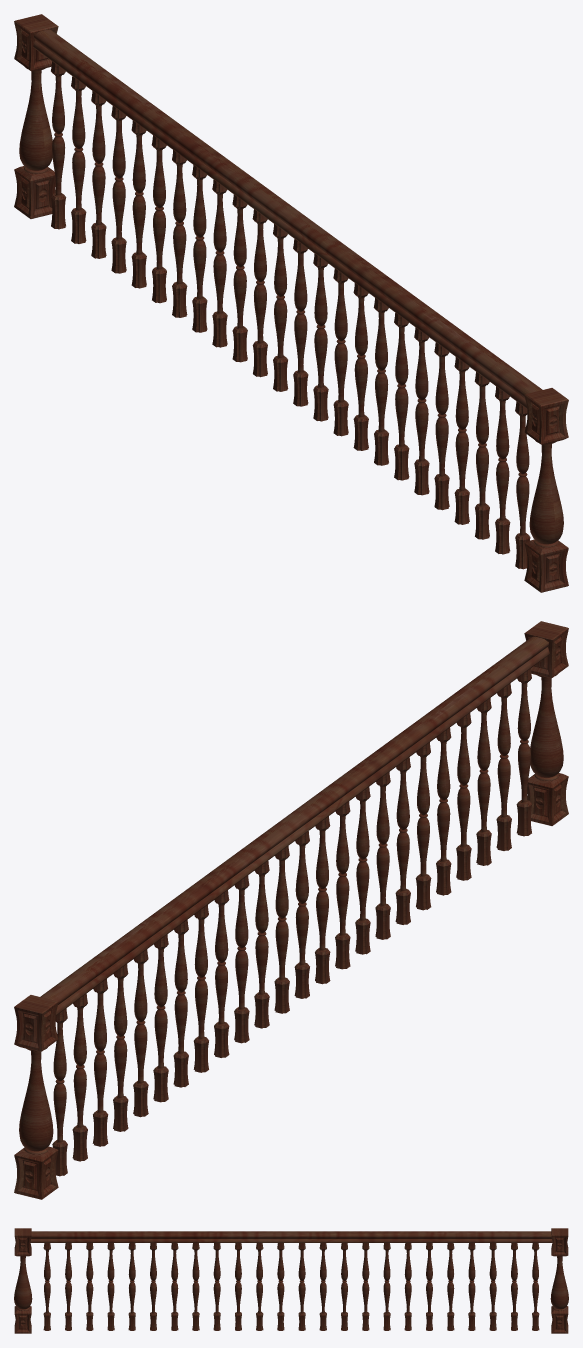
The model's file is DTYDFittings.fbx_RailingLong.fbx.
The picture shows the model from 3 angles, top to bottom: view 1: azimuth 30°, elevation 25°; view 2: azimuth 150°, elevation 25°; view 3: azimuth 270°, elevation 25°; orthographic projection. The views are drawn at different scales.
Visible parts, largest first — view 1: BézierCurve.053, BézierCurve.054, Cube.087, Cube.086, BézierCurve.056, BézierCurve.055; view 2: BézierCurve.053, BézierCurve.054, Cube.086, Cube.087, BézierCurve.055, BézierCurve.056; view 3: BézierCurve.053, BézierCurve.054, Cube.086, Cube.087, BézierCurve.055, BézierCurve.056.
Boxes of the visible parts, x1=… form: BézierCurve.053: x1=51, y1=61, x2=530, y2=569; BézierCurve.054: x1=33, y1=29, x2=542, y2=408; Cube.087: x1=524, y1=388, x2=568, y2=592; Cube.086: x1=14, y1=14, x2=58, y2=218; BézierCurve.056: x1=529, y1=444, x2=563, y2=544; BézierCurve.055: x1=19, y1=70, x2=52, y2=170; BézierCurve.053: x1=52, y1=668, x2=531, y2=1176; BézierCurve.054: x1=40, y1=636, x2=549, y2=1015; Cube.086: x1=14, y1=995, x2=58, y2=1199; Cube.087: x1=524, y1=621, x2=568, y2=825; BézierCurve.055: x1=19, y1=1051, x2=53, y2=1151; BézierCurve.056: x1=530, y1=677, x2=563, y2=777; BézierCurve.053: x1=43, y1=1243, x2=539, y2=1330; BézierCurve.054: x1=30, y1=1231, x2=552, y2=1242; Cube.086: x1=551, y1=1228, x2=568, y2=1333; Cube.087: x1=14, y1=1228, x2=31, y2=1333; BézierCurve.055: x1=550, y1=1256, x2=568, y2=1309; BézierCurve.056: x1=14, y1=1256, x2=32, y2=1309.
Bounding box in the file's own units: 66.1 × 394 × 2011.
2 materials, 2 textured.
